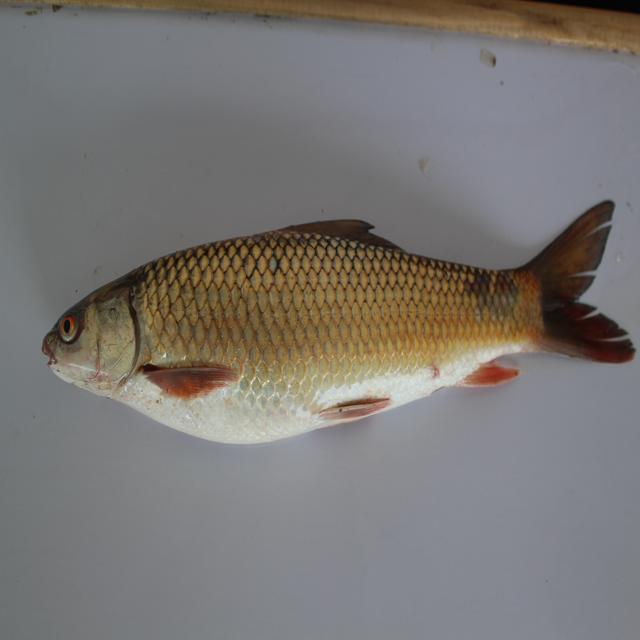Mori: (38, 198, 640, 452)
